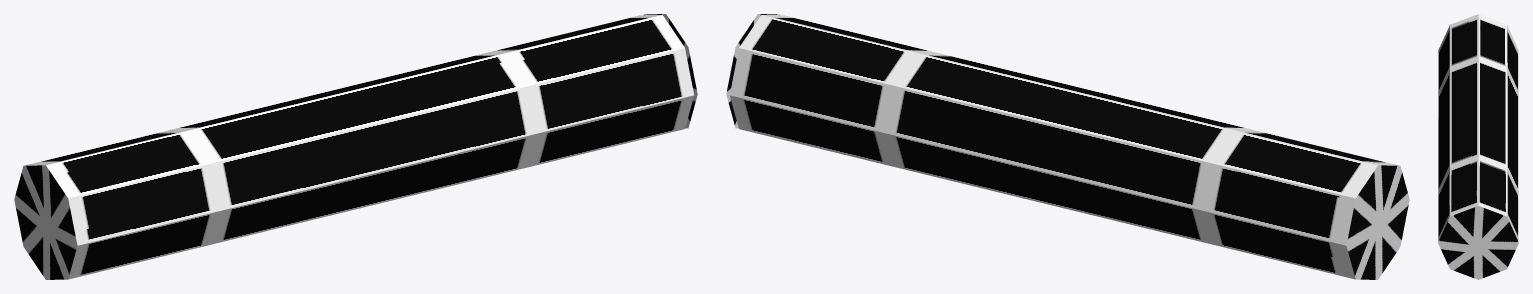
Rendered from Pala Cosechadora.fbx.
The picture shows the model from 3 angles, left to right: view 1: azimuth 30°, elevation 25°; view 2: azimuth 150°, elevation 25°; view 3: azimuth 270°, elevation 25°; orthographic projection. The views are drawn at different scales.
Visible parts, largest first — view 1: Pala Cosechadora; view 2: Pala Cosechadora; view 3: Pala Cosechadora.
Part boxes in pixels (x1,y1,x2,y2): Pala Cosechadora: [14, 14, 697, 279]; Pala Cosechadora: [726, 14, 1409, 279]; Pala Cosechadora: [1438, 14, 1518, 279].
Bounding box in the file's own units: 471 × 83.29 × 83.29.
